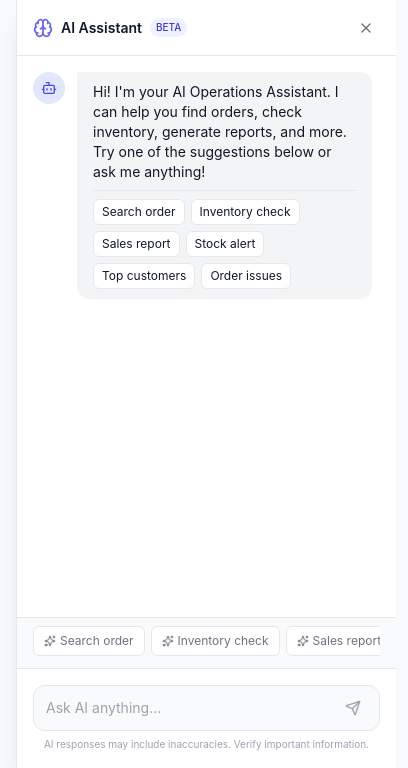
Test case: AIAssistantPanel › still copes with a thrown network error
Type "hello" into the field at (188, 708), box [46, 698, 331, 718]
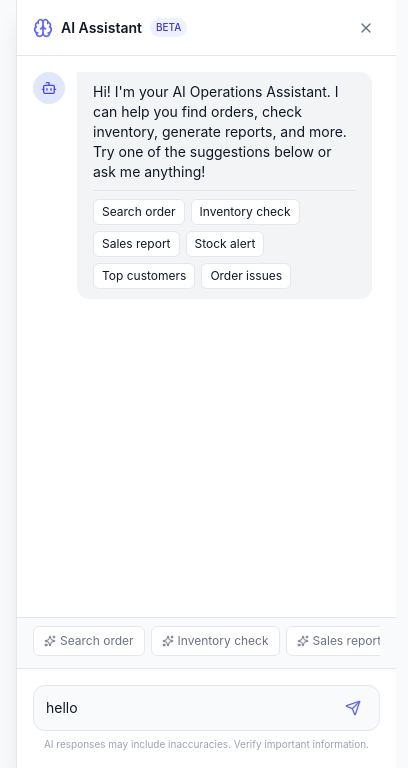
Press Enter in the field, box [46, 698, 331, 718]
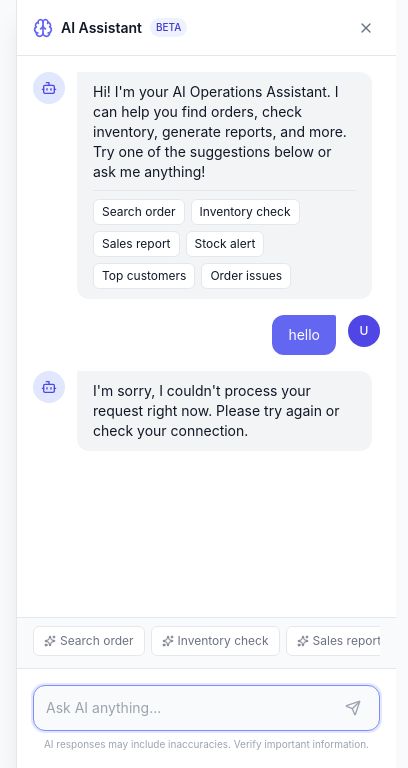
Expected: the text "couldn't process your request" is shown, [93, 382, 344, 439]
